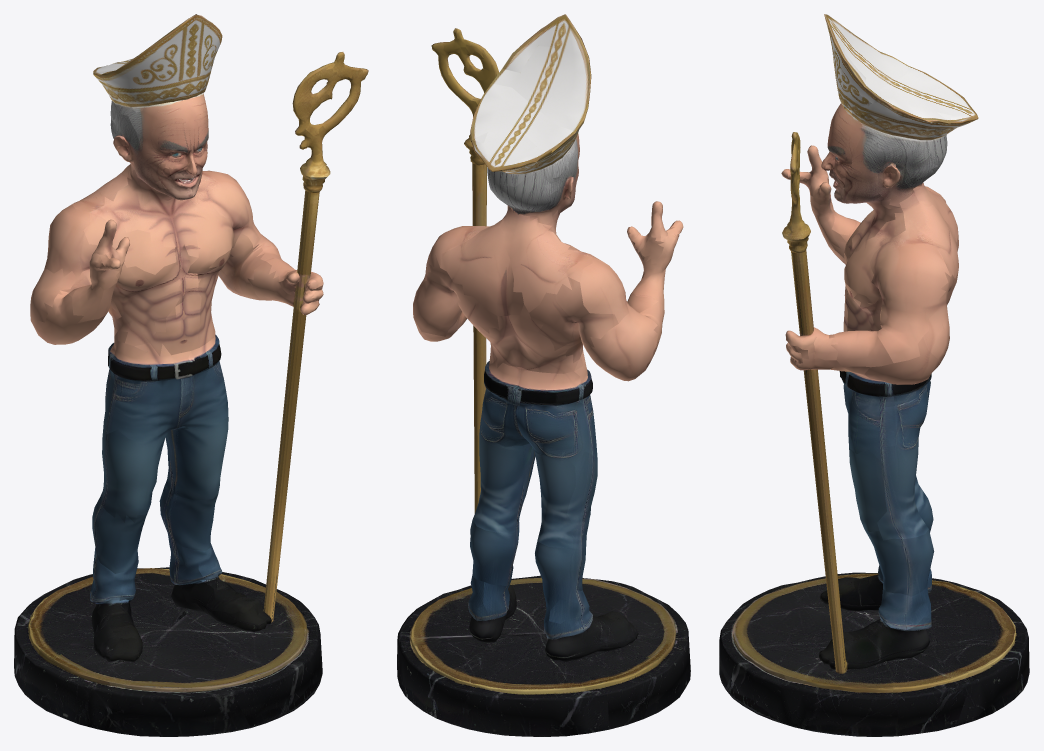
The model's file is right-bishop-ks.glb.
3 renders of one model, left to right at view 1: azimuth 30°, elevation 25°; view 2: azimuth 150°, elevation 25°; view 3: azimuth 270°, elevation 25°, orthographic. The views are drawn at different scales.
Bounding box in the file's own units: 0.4521 × 1 × 0.4258.
1 material, 1 textured.
